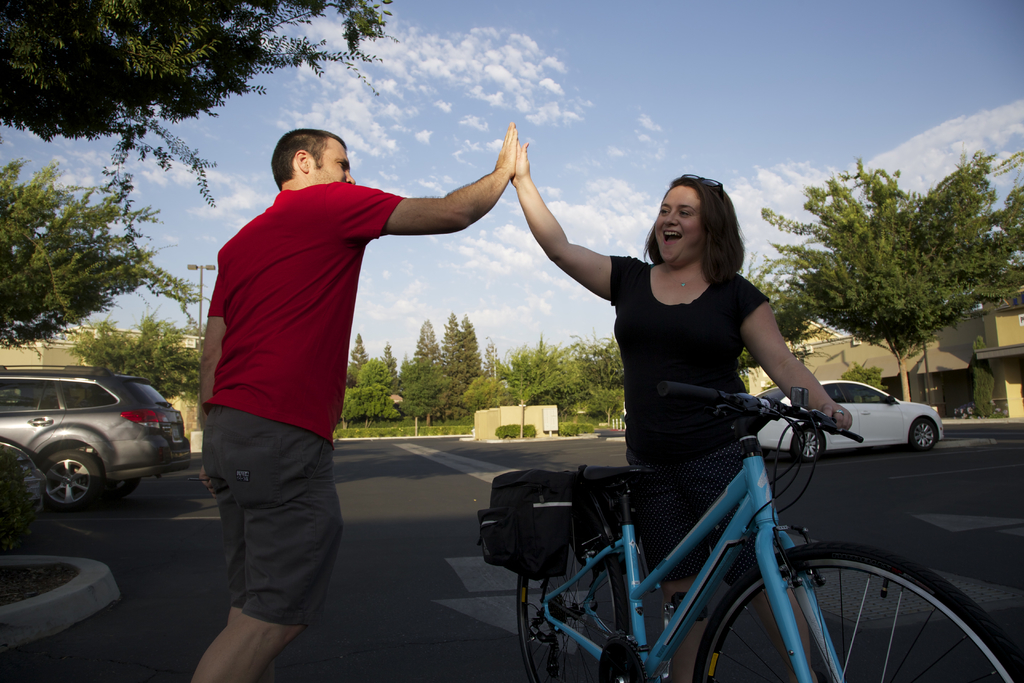Bike: (480, 366, 999, 683)
